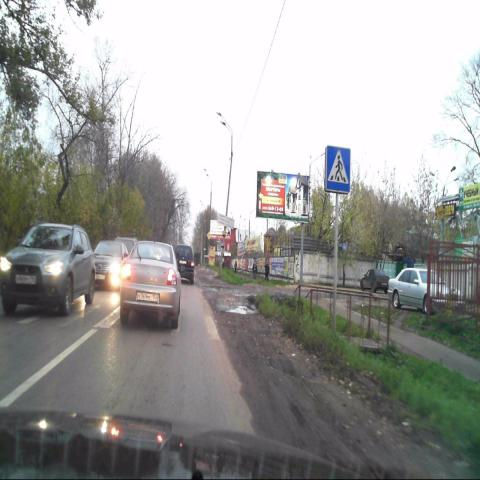5_19_1: (325, 145, 350, 194)
